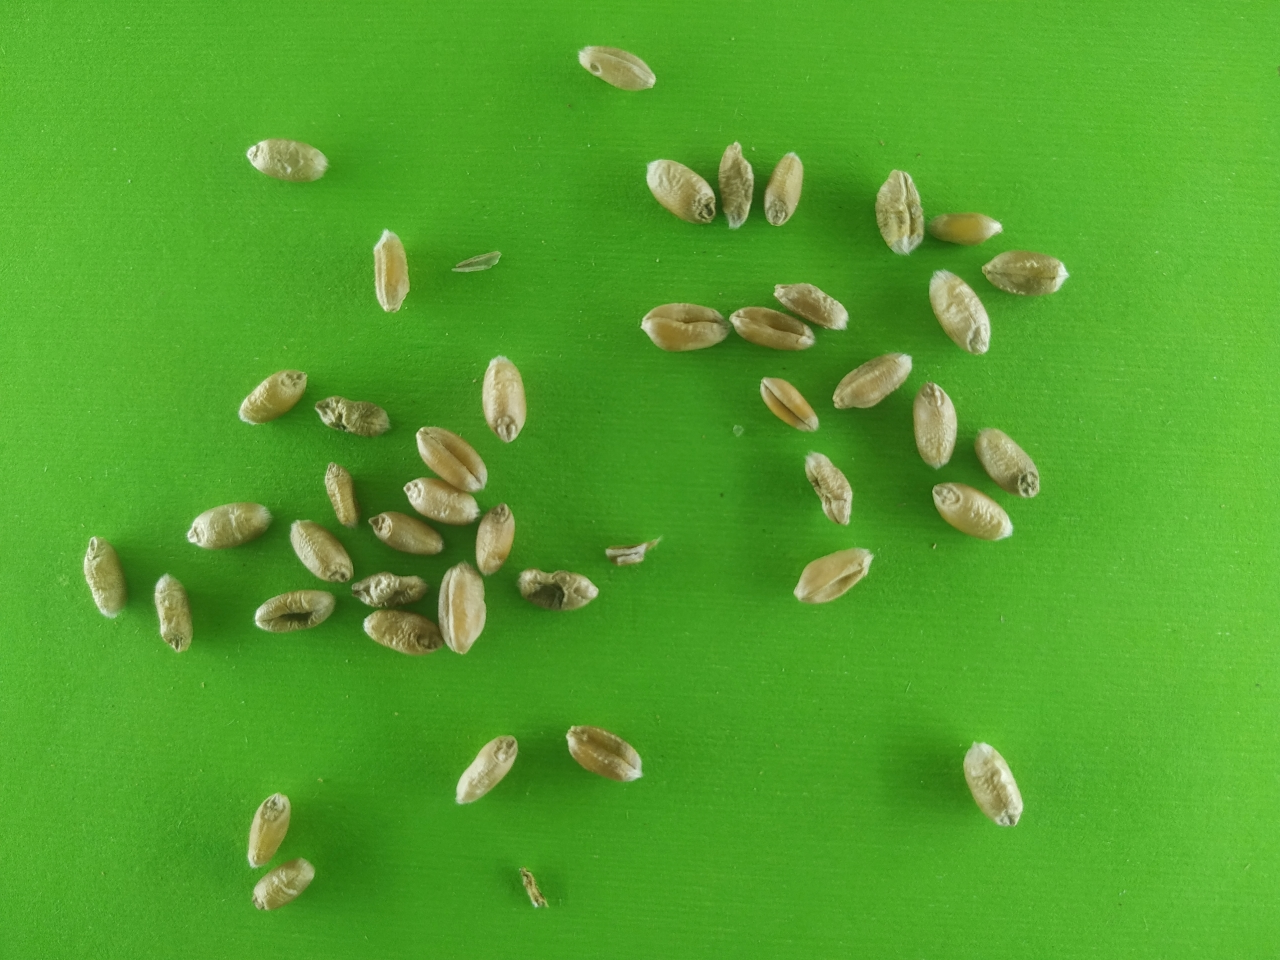bueno: (960, 739, 1021, 830), (927, 268, 990, 354), (646, 155, 720, 226), (439, 557, 490, 655), (414, 425, 486, 493), (932, 481, 1011, 542), (976, 424, 1042, 497), (794, 546, 875, 605), (642, 304, 732, 356), (833, 351, 910, 411), (569, 724, 642, 783), (288, 517, 353, 583), (578, 41, 656, 96), (401, 472, 483, 523), (915, 384, 961, 473), (456, 734, 515, 803), (186, 500, 272, 547), (483, 354, 528, 443), (773, 280, 851, 331), (241, 367, 307, 427), (757, 373, 823, 433), (727, 306, 816, 350), (986, 251, 1069, 297), (763, 146, 810, 227), (370, 223, 412, 312), (242, 137, 328, 179), (81, 535, 125, 617), (248, 856, 314, 909), (368, 506, 444, 552), (247, 794, 289, 867), (155, 572, 192, 650), (478, 504, 513, 576), (930, 212, 1005, 243), (325, 462, 359, 526)
danado: (873, 166, 926, 257), (714, 138, 755, 235), (804, 451, 857, 526), (249, 588, 337, 630), (314, 393, 395, 438), (520, 568, 600, 612), (365, 611, 441, 655), (349, 570, 429, 607)
impureza: (517, 863, 552, 915), (602, 537, 648, 570), (450, 248, 502, 276)
